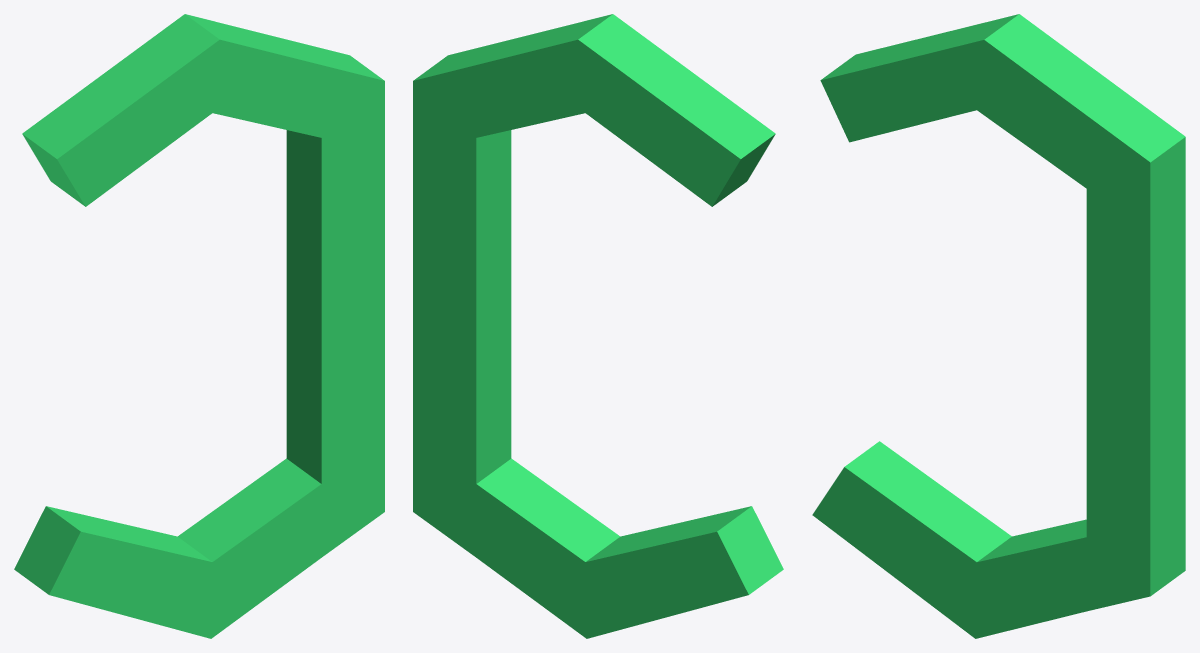
File: stageIke01_symCheck3.fbx
3 renders of one model, left to right at view 1: azimuth 30°, elevation 25°; view 2: azimuth 150°, elevation 25°; view 3: azimuth 330°, elevation 25°, orthographic.
Parts seen in each view (by area): view 1: polySurface288; view 2: polySurface288; view 3: polySurface288.
Boxes of the visible parts, x1,y1,x2,y2 form: polySurface288: [14, 14, 384, 638]; polySurface288: [413, 14, 783, 638]; polySurface288: [812, 14, 1185, 638].
Size of the model in its own units: 0.9352 by 1.59 by 0.1688.
Materials: 1 (1 with a texture image).
